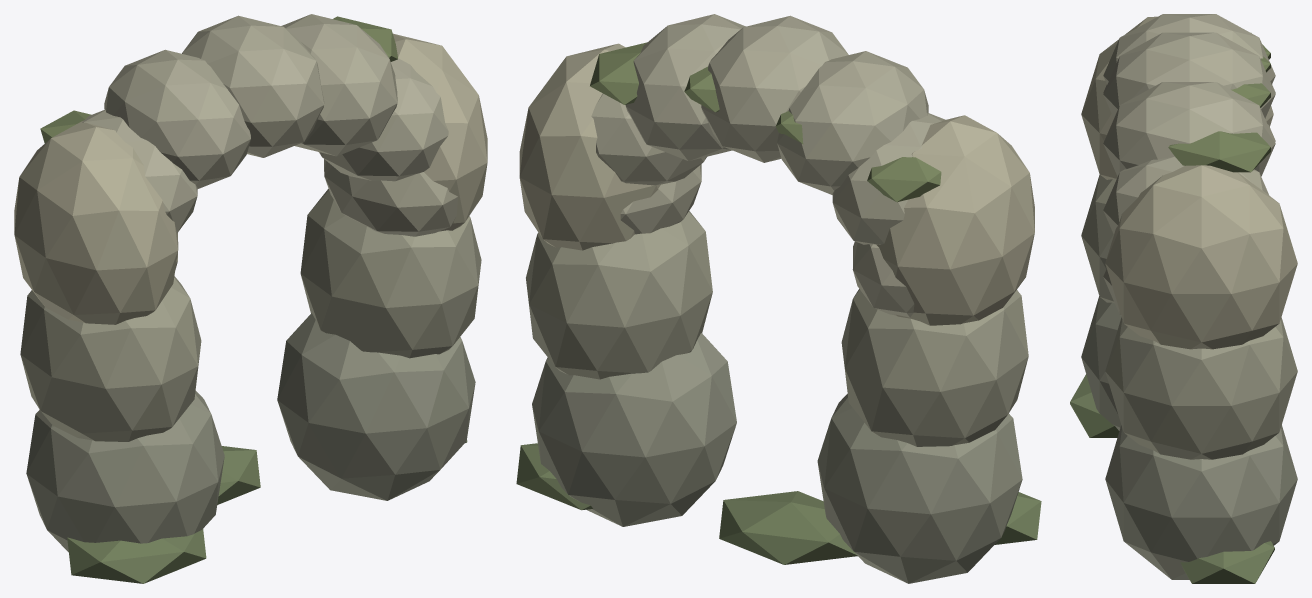
The model's file is pack-karst.glb.
3 views of the same model, side by side, from view 1: azimuth 30°, elevation 25°; view 2: azimuth 150°, elevation 25°; view 3: azimuth 270°, elevation 25° (orthographic). The views are drawn at different scales.
Parts seen in each view (by area): view 1: SculptedModel; view 2: SculptedModel; view 3: SculptedModel.
Part boxes in pixels (left/top/right/bottom): SculptedModel: left=14, top=14, right=487, bottom=583; SculptedModel: left=516, top=14, right=1041, bottom=583; SculptedModel: left=1070, top=14, right=1297, bottom=583.
Size of the model in its own units: 2.5 by 2.64 by 1.14.
